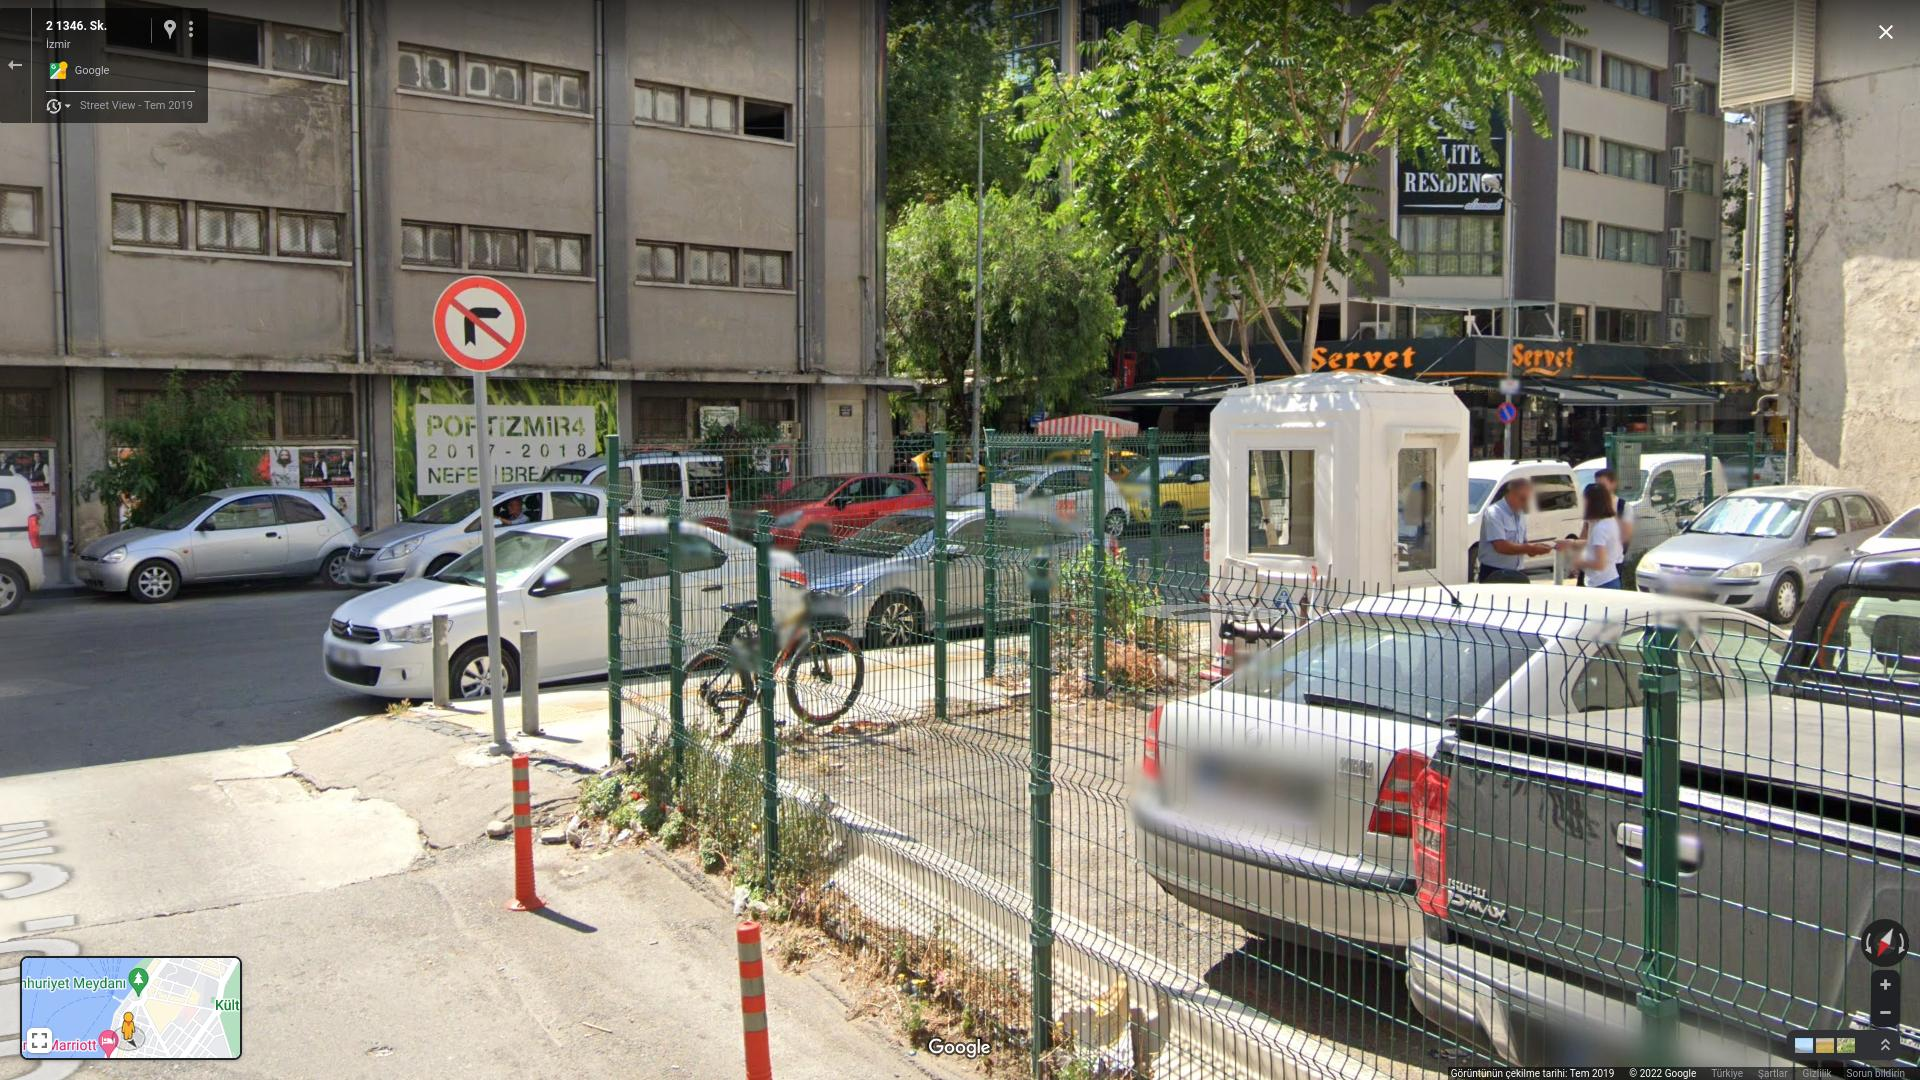rightturnsareforbidden: (434, 278, 522, 368)
